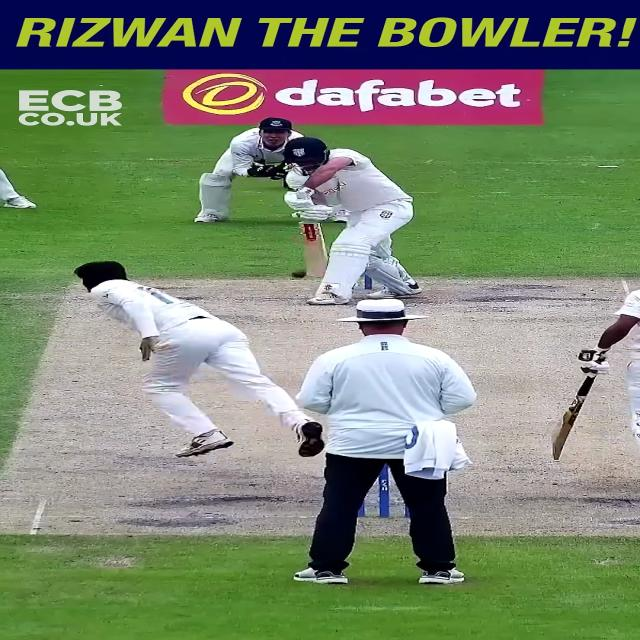cricketBall: (290, 272, 308, 280)
